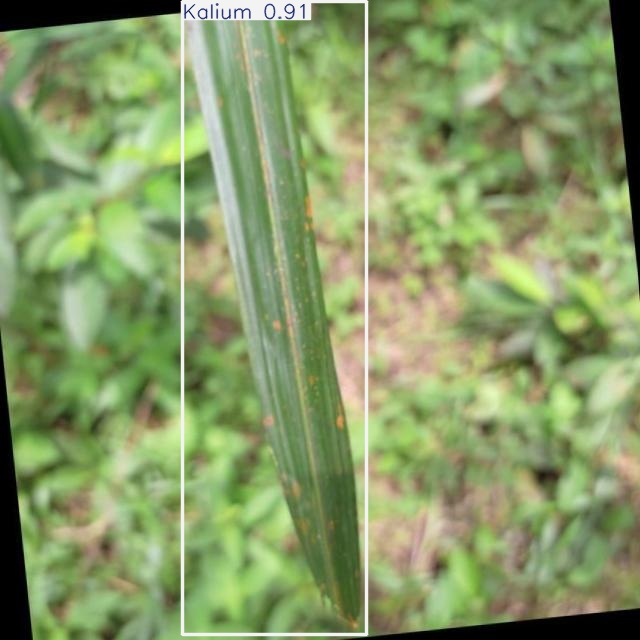Kalium: (183, 1, 367, 635)
